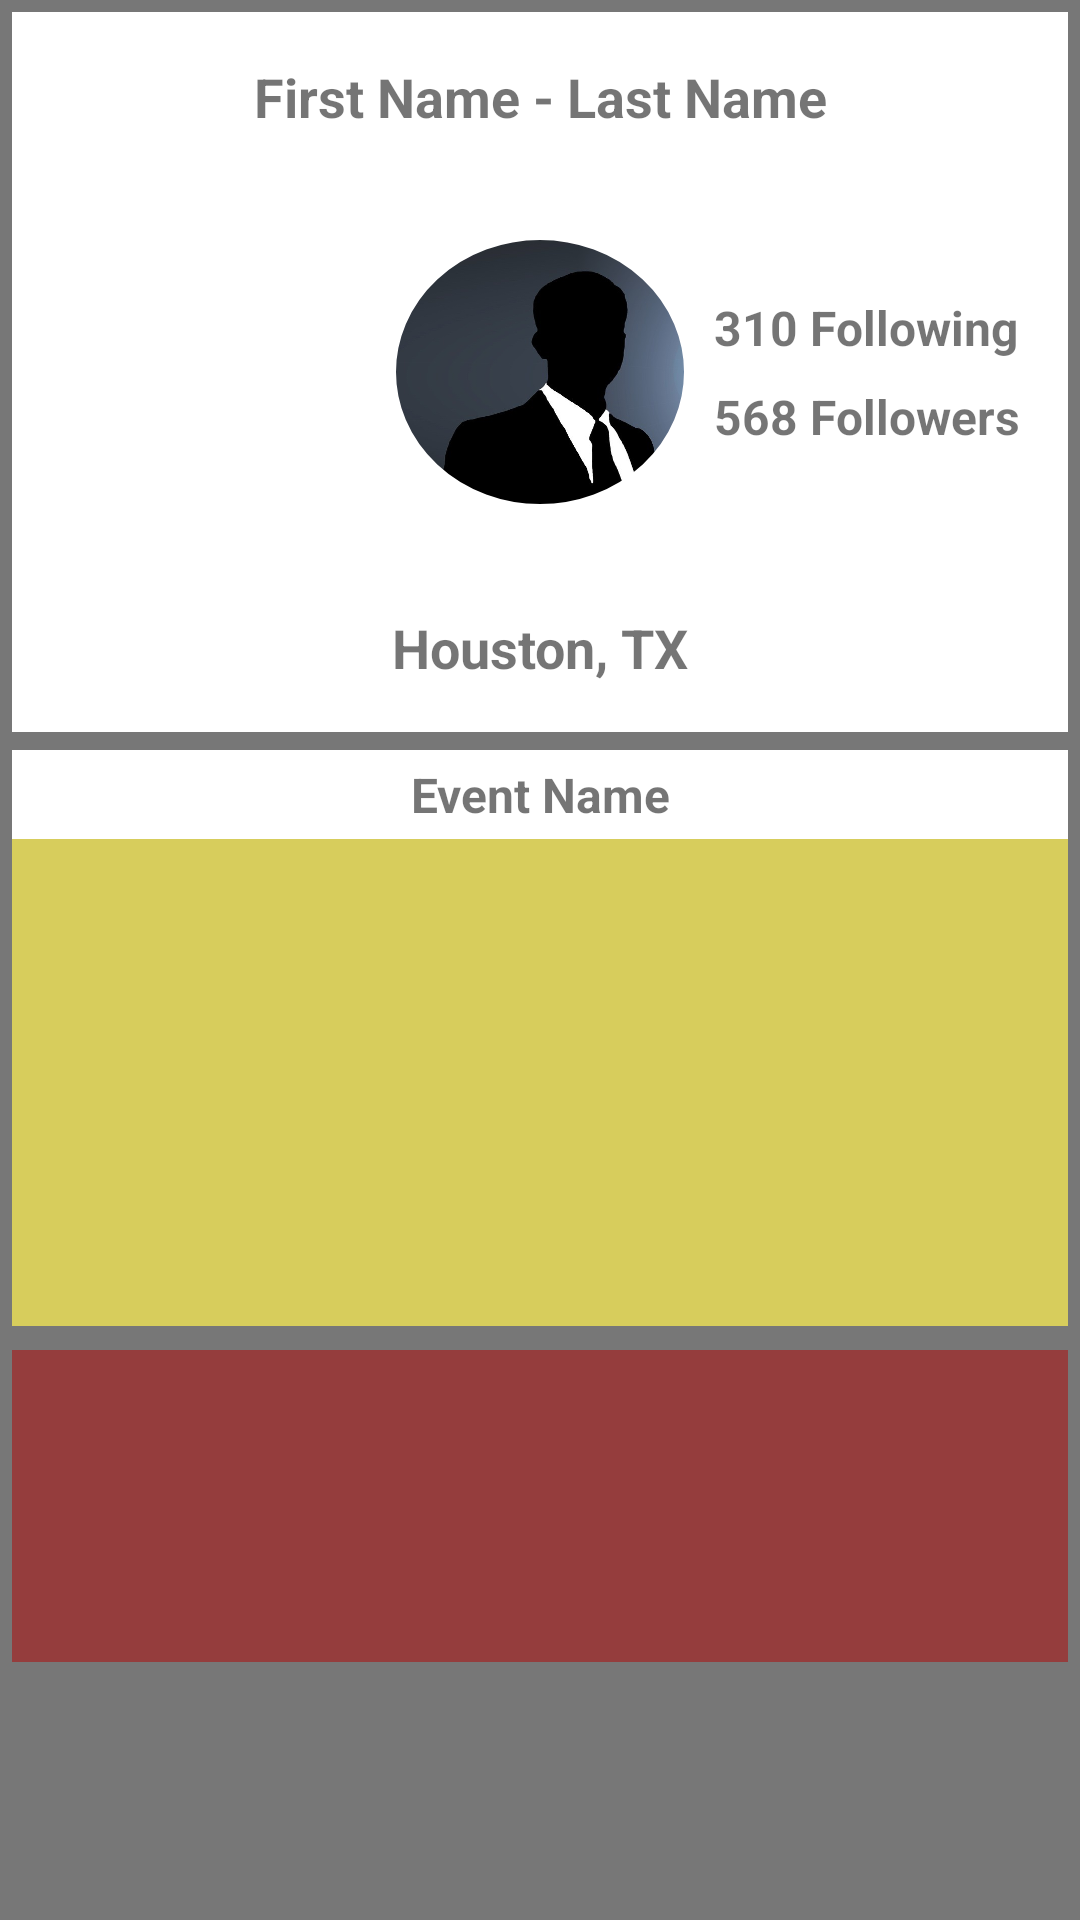

Icons on this 1080×1920 Android screen, each with the point to tap as [x,y]:
User Profile Image: [540,372]
